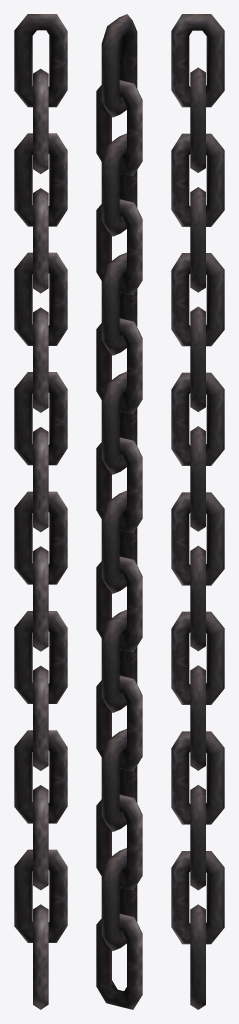
The model's file is IronChain01_Maincity_001.FBX.
3 renders of one model, left to right at view 1: azimuth 90°, elevation 25°; view 2: azimuth 150°, elevation 25°; view 3: azimuth 270°, elevation 25°, orthographic.
Visible parts, largest first — view 1: IronChain01_Maincity_001; view 2: IronChain01_Maincity_001; view 3: IronChain01_Maincity_001.
Part boxes in pixels (<box>): IronChain01_Maincity_001: <box>14,14,67,1009</box>; IronChain01_Maincity_001: <box>96,14,142,1009</box>; IronChain01_Maincity_001: <box>171,14,224,1009</box>.
Size of the model in its own units: 23.06 by 471 by 23.06.
